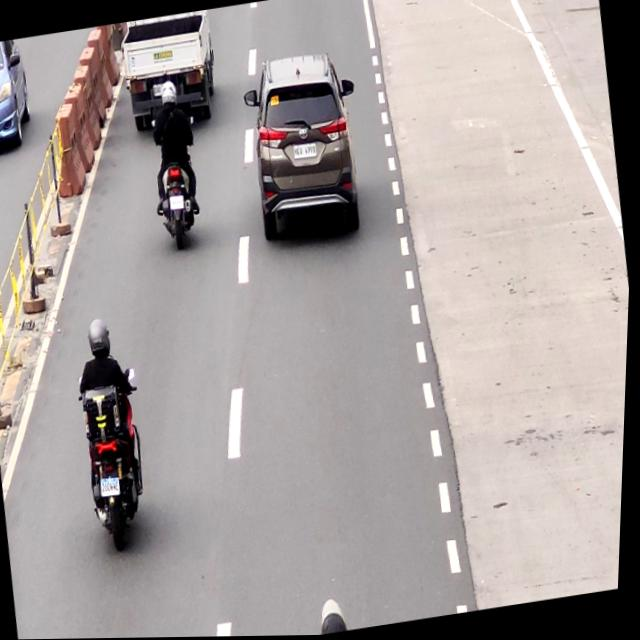Car: (242, 50, 369, 248)
License-Plate: (102, 475, 129, 502), (294, 144, 320, 162), (170, 194, 188, 215)
Motorcycle: (64, 319, 160, 556), (143, 81, 210, 250)
Truck: (118, 10, 221, 130)
